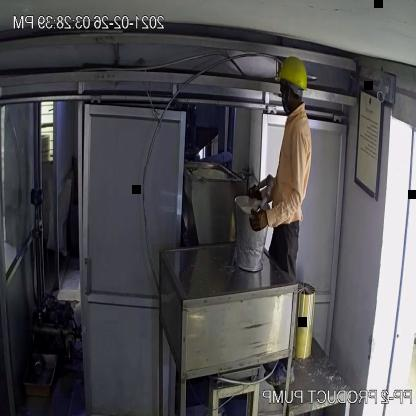helmet: (274, 54, 309, 94)
